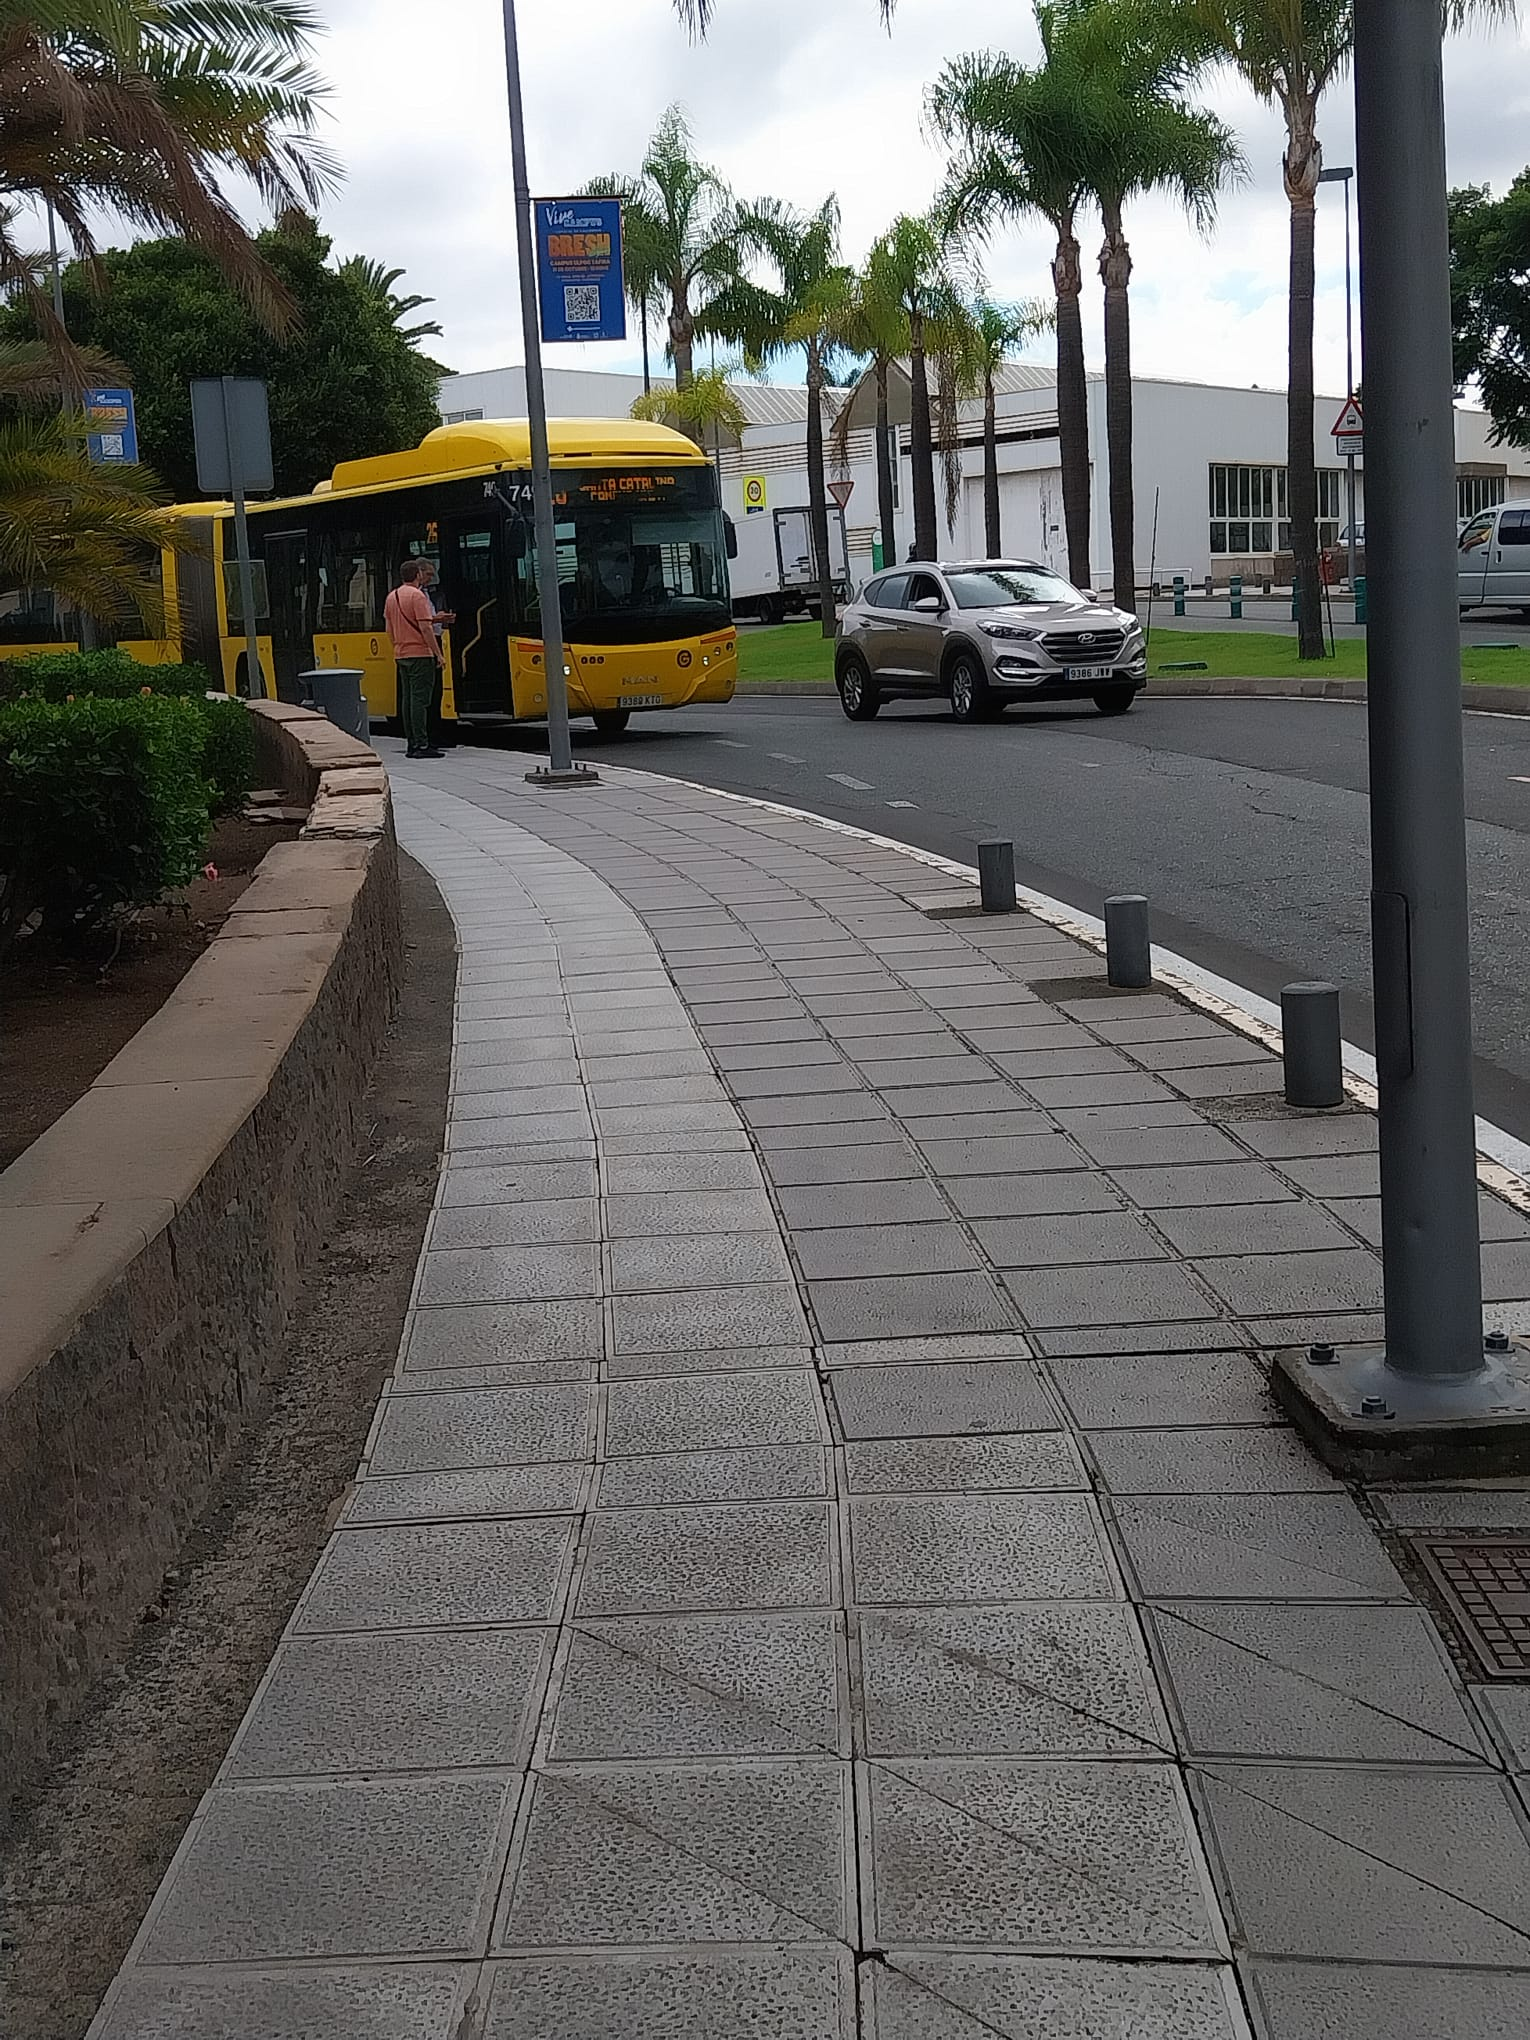License-Plate: (1063, 664, 1112, 682), (620, 695, 662, 708)
